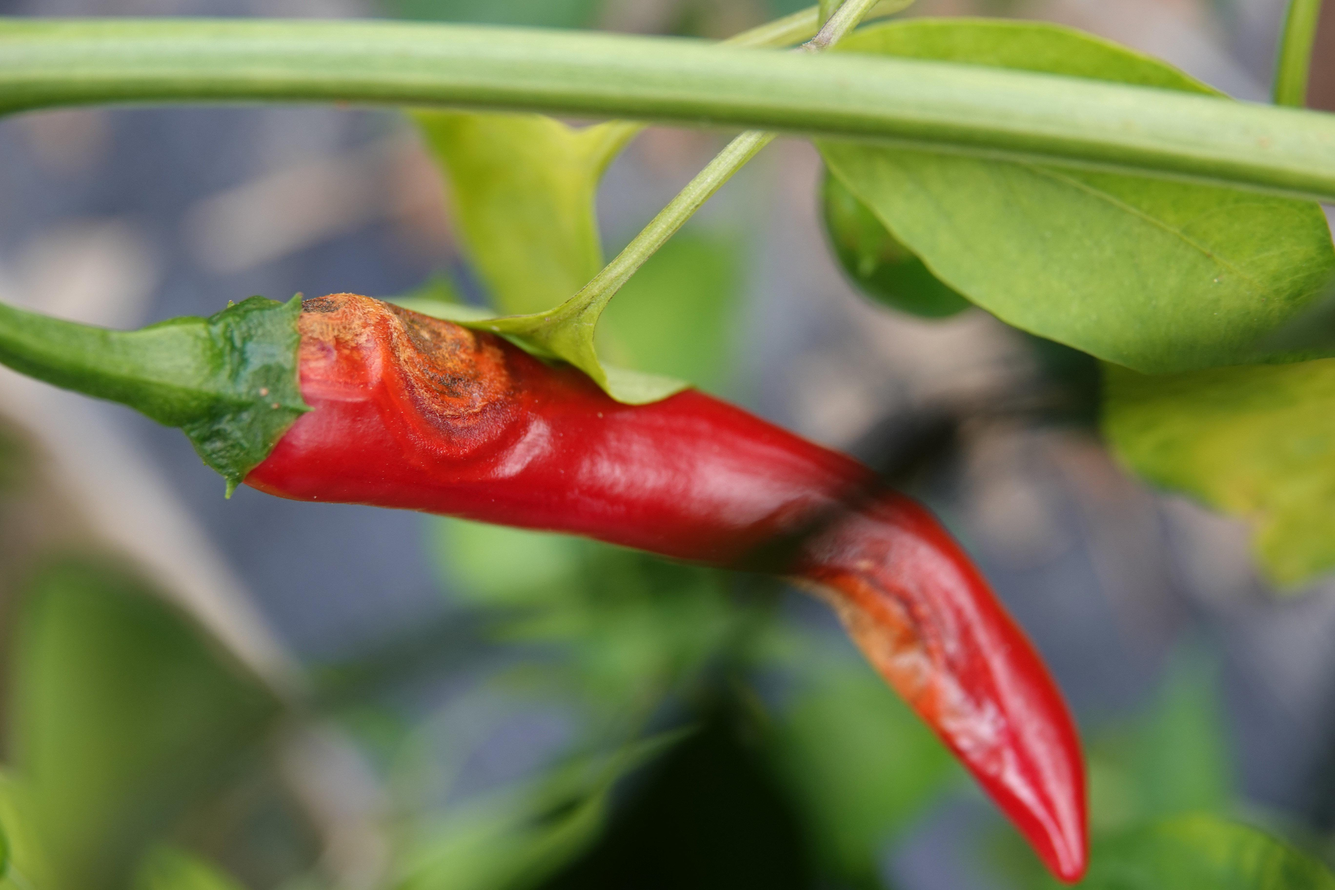Busuk Buah Antraknosa: (174, 285, 1097, 882)
